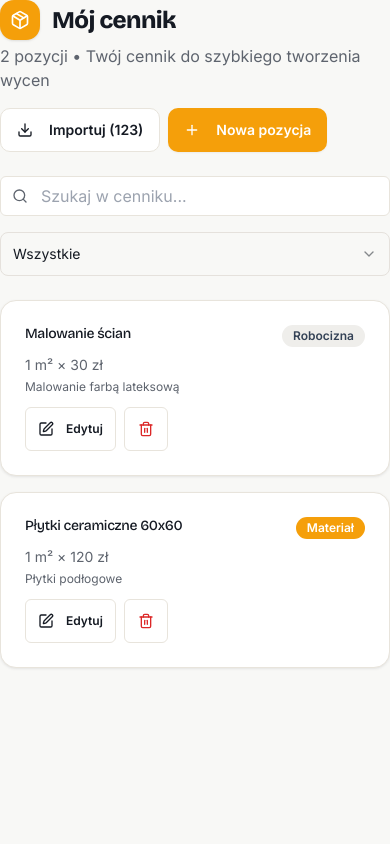
Scenario: ItemTemplates › create template › should close dialog after successful create
Click the button "Nowa pozycja". click: coordinates (248, 130)
box: [168,108,327,152]
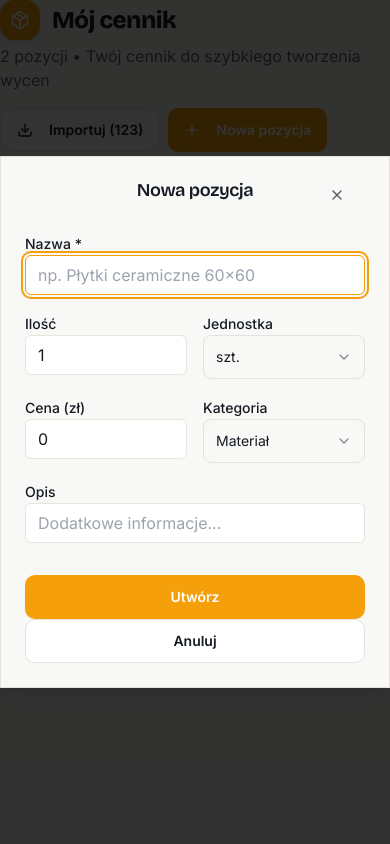
Result: the dialog is shown
Type "Nowy szablon testowy" into the field with placeholder "np. Płytki ceramiczne 60x60". click: coordinates (195, 275)
box: [25,255,365,295]
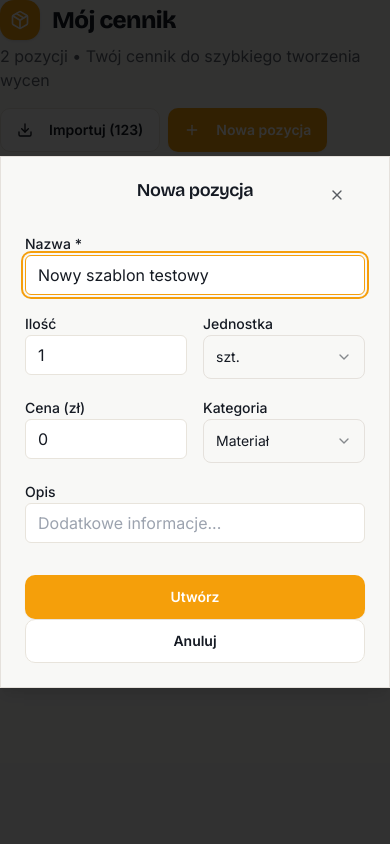
Click the button "Utwórz". click: coordinates (195, 597)
box: [25,575,365,619]
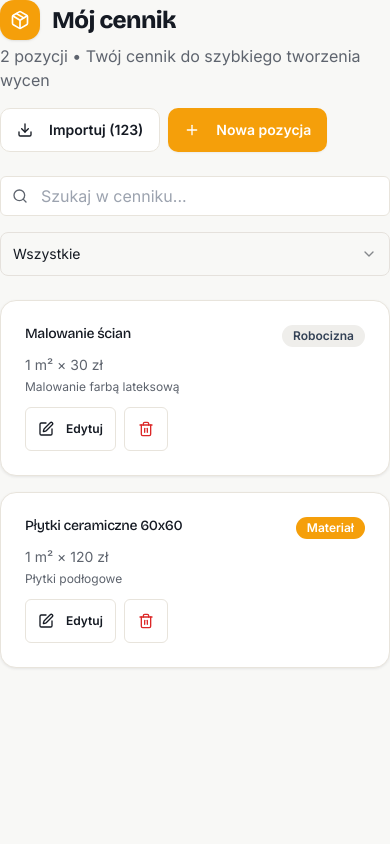
Result: the dialog is gone
